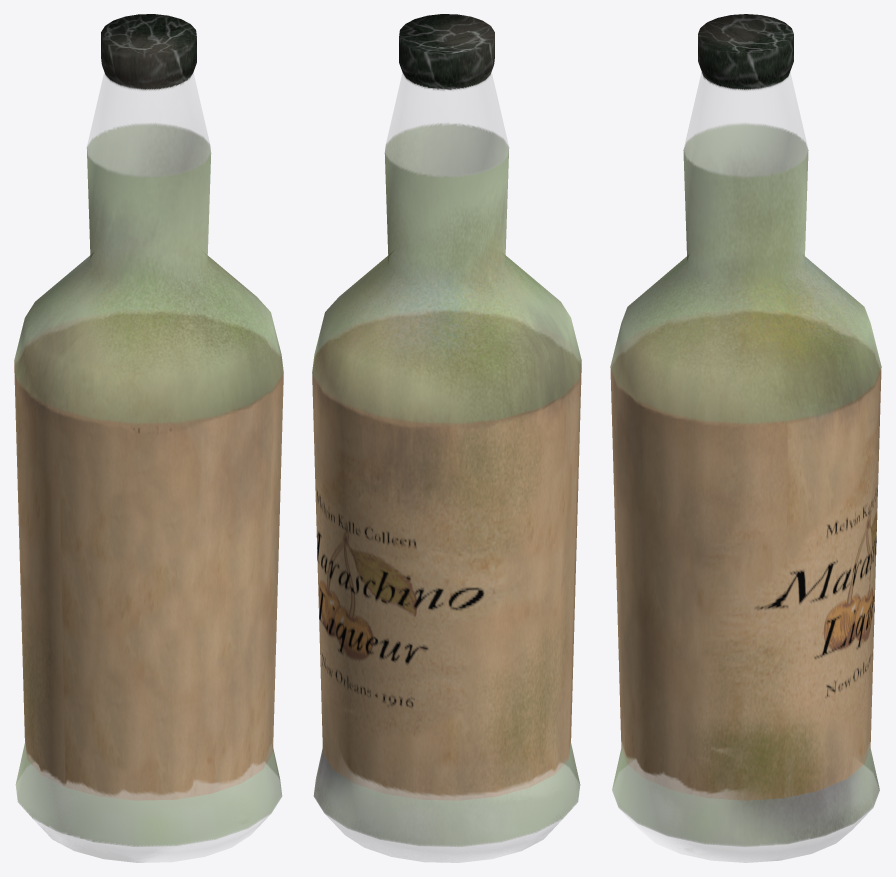
Rendered from maraschino_liqueur.glb.
3 renders of one model, left to right at view 1: azimuth 30°, elevation 25°; view 2: azimuth 150°, elevation 25°; view 3: azimuth 270°, elevation 25°, orthographic.
Visible parts, largest first — view 1: pCylinder1; view 2: pCylinder1; view 3: pCylinder1.
Part boxes in pixels (x1=…): pCylinder1: x1=14, y1=14, x2=283, y2=862; pCylinder1: x1=312, y1=14, x2=581, y2=862; pCylinder1: x1=610, y1=14, x2=881, y2=862.
Size of the model in its own units: 2.17 by 7.01 by 2.17.
Materials: 1 (1 with a texture image).
